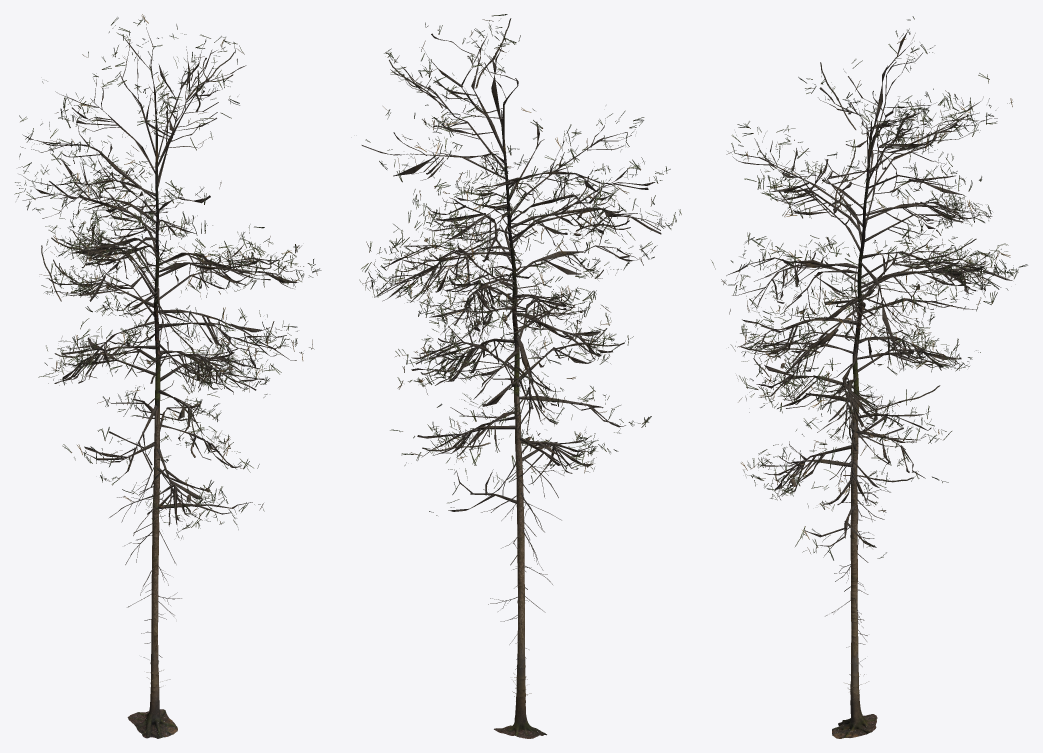
The model's file is pine_tree_01_a.glb.
The picture shows the model from 3 angles, left to right: view 1: azimuth 30°, elevation 25°; view 2: azimuth 150°, elevation 25°; view 3: azimuth 270°, elevation 25°; orthographic projection. The views are drawn at different scales.
Parts seen in each view (by area): view 1: pine_tree_01_a_LOD0.001, pine_tree_01_a_LOD0.003, pine_tree_01_a_LOD0.002, pine_tree_01_a_LOD0; view 2: pine_tree_01_a_LOD0.001, pine_tree_01_a_LOD0.003, pine_tree_01_a_LOD0.002, pine_tree_01_a_LOD0; view 3: pine_tree_01_a_LOD0.001, pine_tree_01_a_LOD0.003, pine_tree_01_a_LOD0.002, pine_tree_01_a_LOD0.
Boxes of the visible parts, x1,y1,x2,y2 form: pine_tree_01_a_LOD0.001: [19, 21, 303, 531]; pine_tree_01_a_LOD0.003: [14, 14, 321, 538]; pine_tree_01_a_LOD0.002: [127, 121, 177, 738]; pine_tree_01_a_LOD0: [109, 464, 191, 657]; pine_tree_01_a_LOD0.001: [361, 33, 665, 511]; pine_tree_01_a_LOD0.003: [359, 14, 681, 515]; pine_tree_01_a_LOD0.002: [494, 110, 546, 738]; pine_tree_01_a_LOD0: [481, 457, 563, 669]; pine_tree_01_a_LOD0.001: [726, 32, 1012, 547]; pine_tree_01_a_LOD0.003: [711, 16, 1027, 560]; pine_tree_01_a_LOD0.002: [832, 121, 877, 738]; pine_tree_01_a_LOD0: [823, 460, 889, 666].
Size of the model in its own units: 7.63 by 20.32 by 8.2.
Materials: 4 (4 with a texture image).
